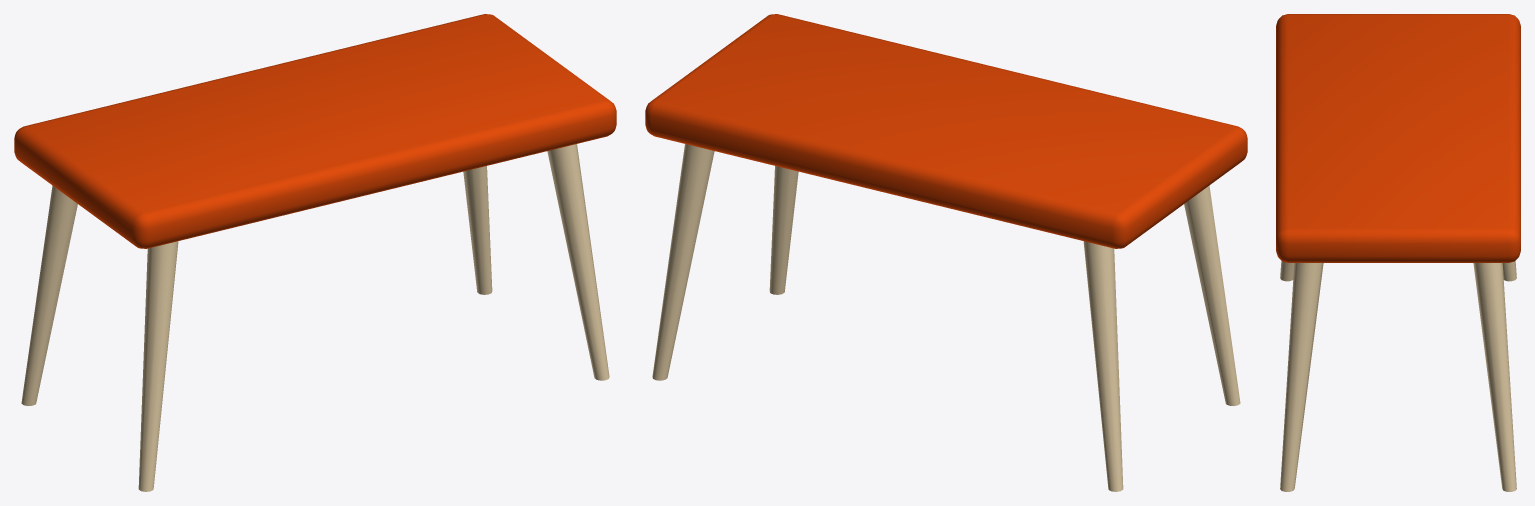
File: Table_2V.fbx
3 renders of one model, left to right at view 1: azimuth 30°, elevation 25°; view 2: azimuth 150°, elevation 25°; view 3: azimuth 270°, elevation 25°, orthographic. The views are drawn at different scales.
Parts seen in each view (by area): view 1: Table_2V; view 2: Table_2V; view 3: Table_2V.
Boxes of the visible parts, x1,y1,x2,y2 form: Table_2V: (14,14,616,491); Table_2V: (645,14,1247,491); Table_2V: (1276,14,1520,491).
Size of the model in its own units: 1.04 by 0.5678 by 0.4807.
